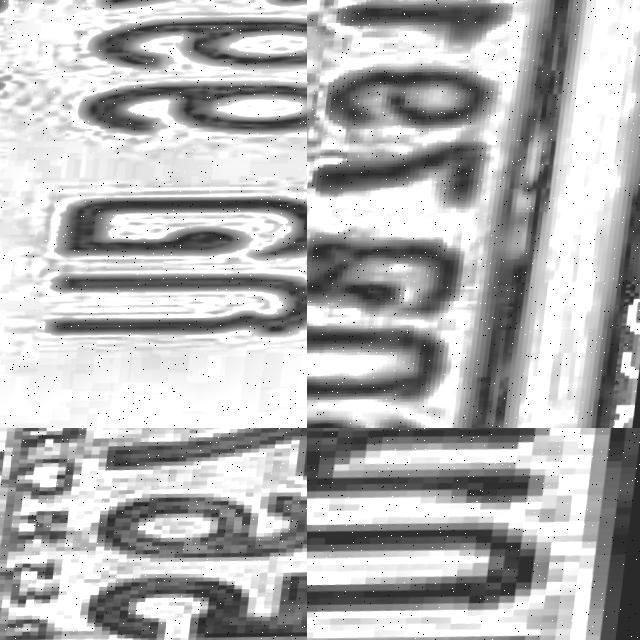license-plate: (0, 0, 307, 428), (307, 0, 606, 428), (307, 428, 640, 640), (0, 428, 307, 640)
